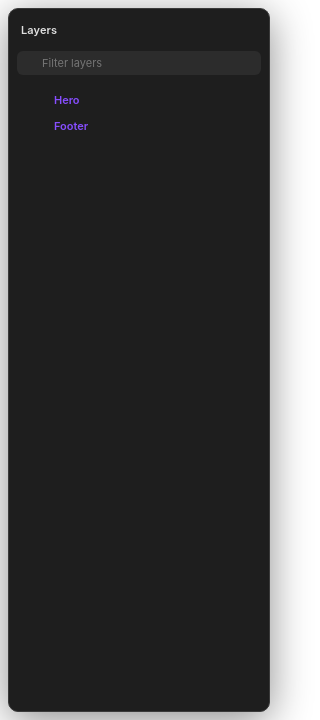
Scenario: LayersPanel › filter narrows visible rows by label
Expected: the text "Hero" is shown, [54, 93, 80, 107]
Expected: the text "Footer" is shown, [54, 119, 88, 133]
Type "foot" into the field with placeholder "Filter layers" at (148, 63), box [42, 56, 253, 70]
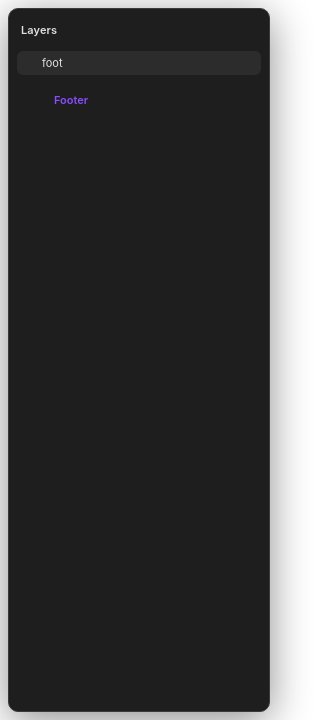
Expected: the text "Footer" is shown, [54, 93, 88, 107]
Result: the text "Hero" is gone
